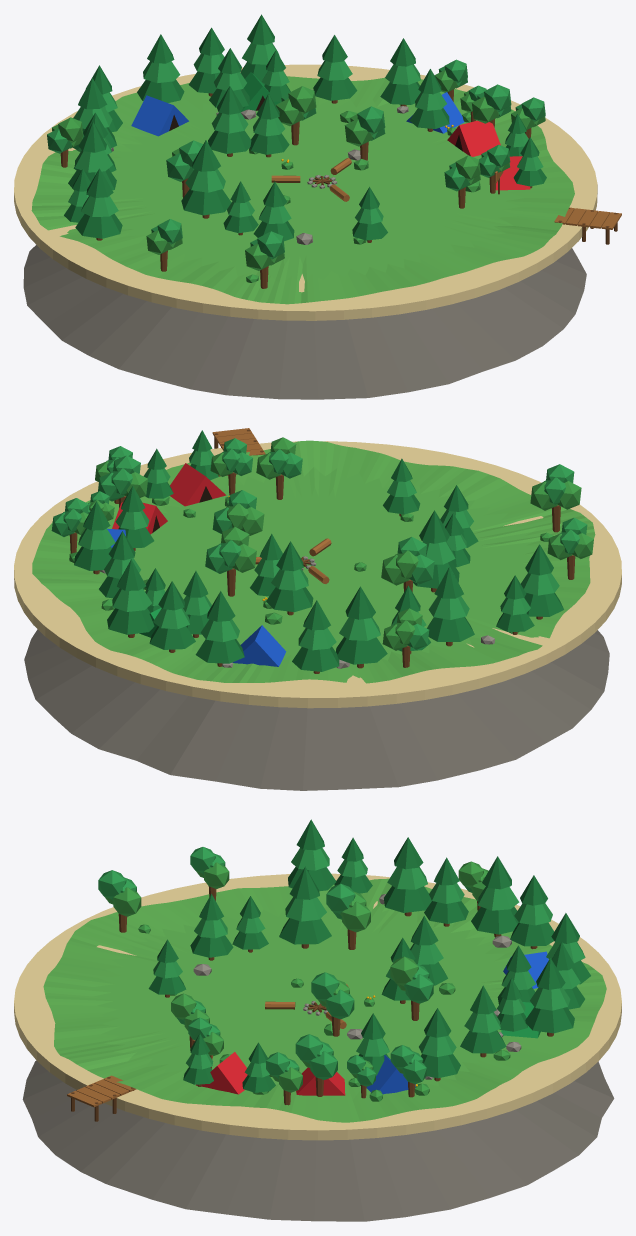
The model's file is isla-uniforme.glb.
3 views of the same model, one above another, from view 1: azimuth 30°, elevation 25°; view 2: azimuth 150°, elevation 25°; view 3: azimuth 270°, elevation 25° (orthographic). The views are drawn at different scales.
Visible parts, largest first — view 1: Pasto, Roca, Arboles, Orilla, Carpas, Rocas_Arbustos, Muelle, Fogata; view 2: Pasto, Arboles, Roca, Orilla, Carpas, Rocas_Arbustos, Muelle, Fogata; view 3: Pasto, Arboles, Roca, Orilla, Carpas, Rocas_Arbustos, Muelle, Fogata.
Boxes of the visible parts, x1,y1,x2,y2 form: Pasto: [31, 76, 574, 304]; Roca: [23, 245, 586, 399]; Arboles: [47, 14, 546, 288]; Orilla: [14, 64, 597, 320]; Carpas: [131, 72, 530, 190]; Rocas_Arbustos: [111, 89, 480, 282]; Muelle: [494, 168, 621, 244]; Fogata: [271, 158, 351, 201]; Pasto: [32, 440, 595, 683]; Arboles: [51, 430, 593, 673]; Roca: [24, 629, 609, 790]; Orilla: [14, 441, 621, 708]; Carpas: [107, 463, 286, 666]; Rocas_Arbustos: [69, 496, 553, 668]; Muelle: [212, 428, 265, 476]; Fogata: [255, 538, 331, 583]; Pasto: [43, 878, 606, 1122]; Arboles: [98, 819, 590, 1105]; Roca: [22, 1060, 614, 1221]; Orilla: [14, 873, 621, 1140]; Carpas: [196, 951, 548, 1095]; Rocas_Arbustos: [138, 894, 521, 1101]; Muelle: [67, 1039, 212, 1121]; Fogata: [265, 984, 348, 1028].
Bounding box in the file's own units: 15.26 × 4.94 × 15.26.
